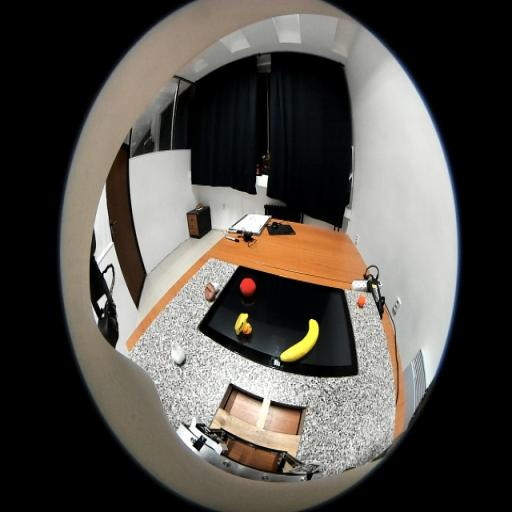Banana: (280, 319, 319, 362)
Duck: (234, 313, 252, 335)
Mushroom: (204, 282, 218, 301)
Onion: (171, 342, 185, 364)
Orange: (358, 296, 366, 308)
Tomato: (240, 276, 256, 296)
